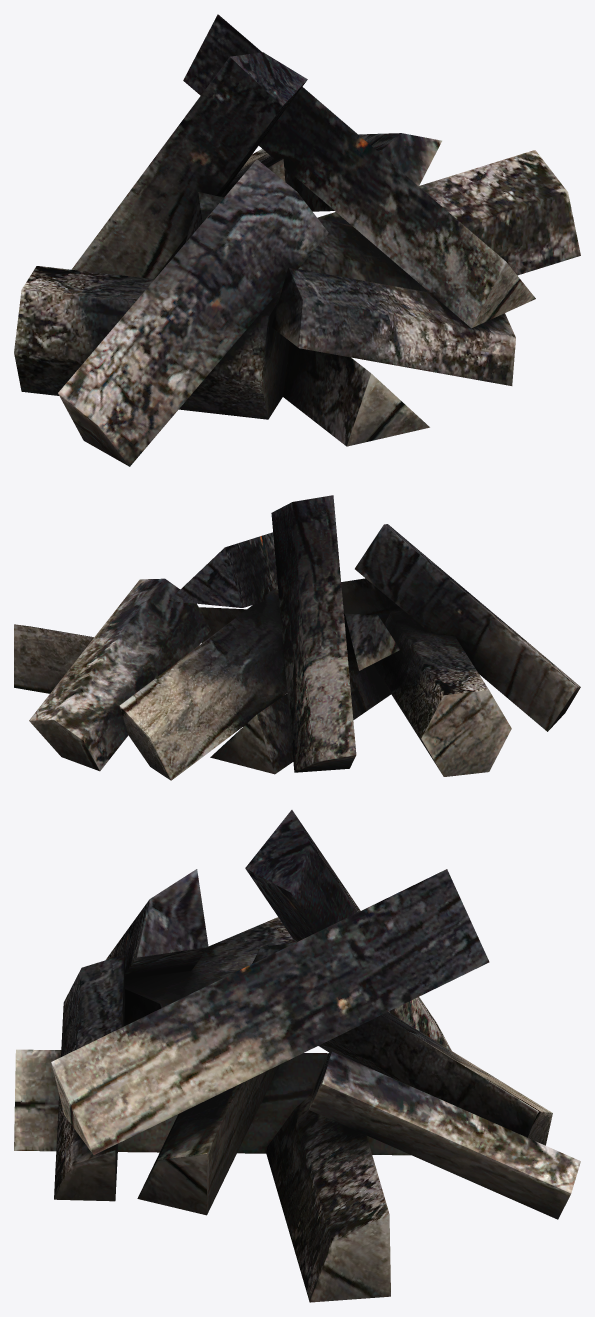
Rendered from bonfire_remastered.dae.
The picture shows the model from 3 angles, top to bottom: view 1: azimuth 30°, elevation 25°; view 2: azimuth 150°, elevation 25°; view 3: azimuth 270°, elevation 25°; orthographic projection. The views are drawn at different scales.
Parts seen in each view (by area): view 1: bonfire_mesh; view 2: bonfire_mesh; view 3: bonfire_mesh.
Boxes of the visible parts, x1,y1,x2,y2 form: bonfire_mesh: [14, 14, 580, 466]; bonfire_mesh: [14, 495, 580, 780]; bonfire_mesh: [14, 810, 580, 1302].
Bounding box in the file's own units: 0.9223 × 0.4329 × 0.72.
